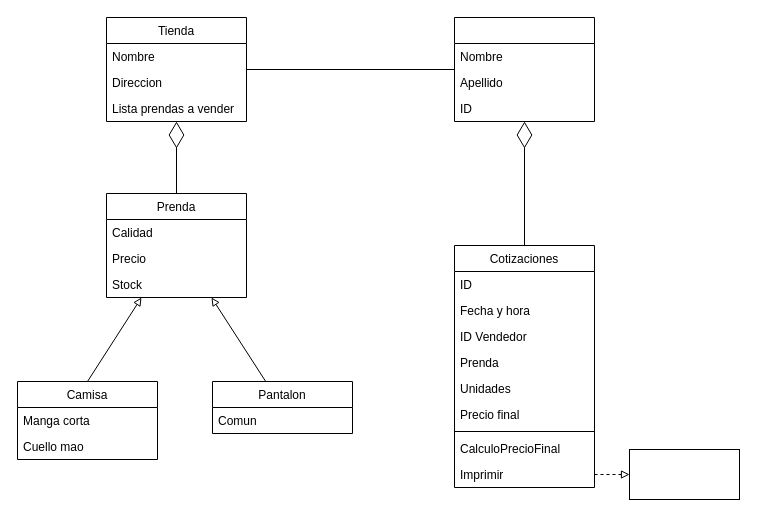
Image size: 757x517. Some labels were removed from this diagram. Here are the shapes that lost their labels. From the top down, the box of each, then its label:
(454, 16, 594, 122): Vendedor
(628, 448, 740, 500): IImprimible
